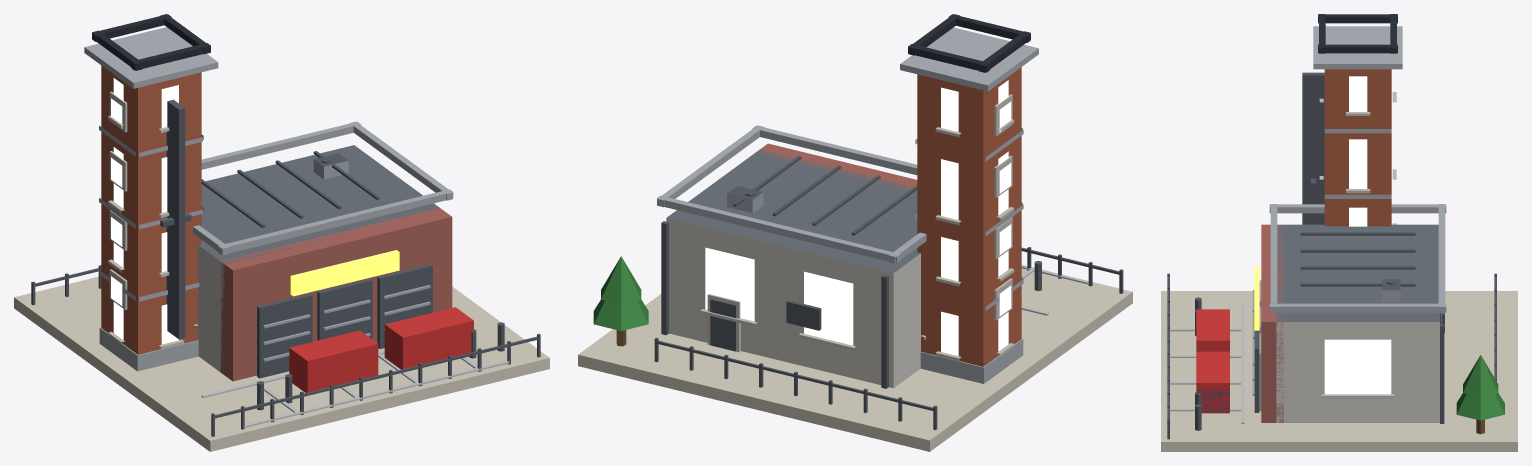
3 renders of one model, left to right at view 1: azimuth 30°, elevation 25°; view 2: azimuth 150°, elevation 25°; view 3: azimuth 270°, elevation 25°, orthographic. The views are drawn at different scales.
Visible parts, largest first — view 1: b30; view 2: b30; view 3: b30.
Boxes of the visible parts, x1,y1,x2,y2 form: b30: (14,14,549,451); b30: (578,14,1132,451); b30: (1161,14,1517,451).
Bounding box in the file's own units: 0.975 × 0.868 × 0.96.
